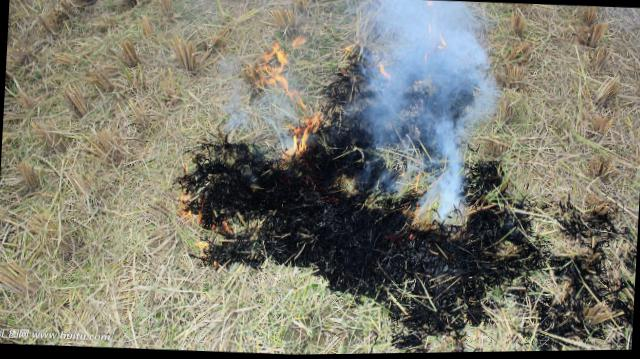fire: (254, 44, 284, 88), (300, 112, 324, 133), (288, 130, 305, 155), (288, 86, 306, 106), (376, 61, 390, 79)
